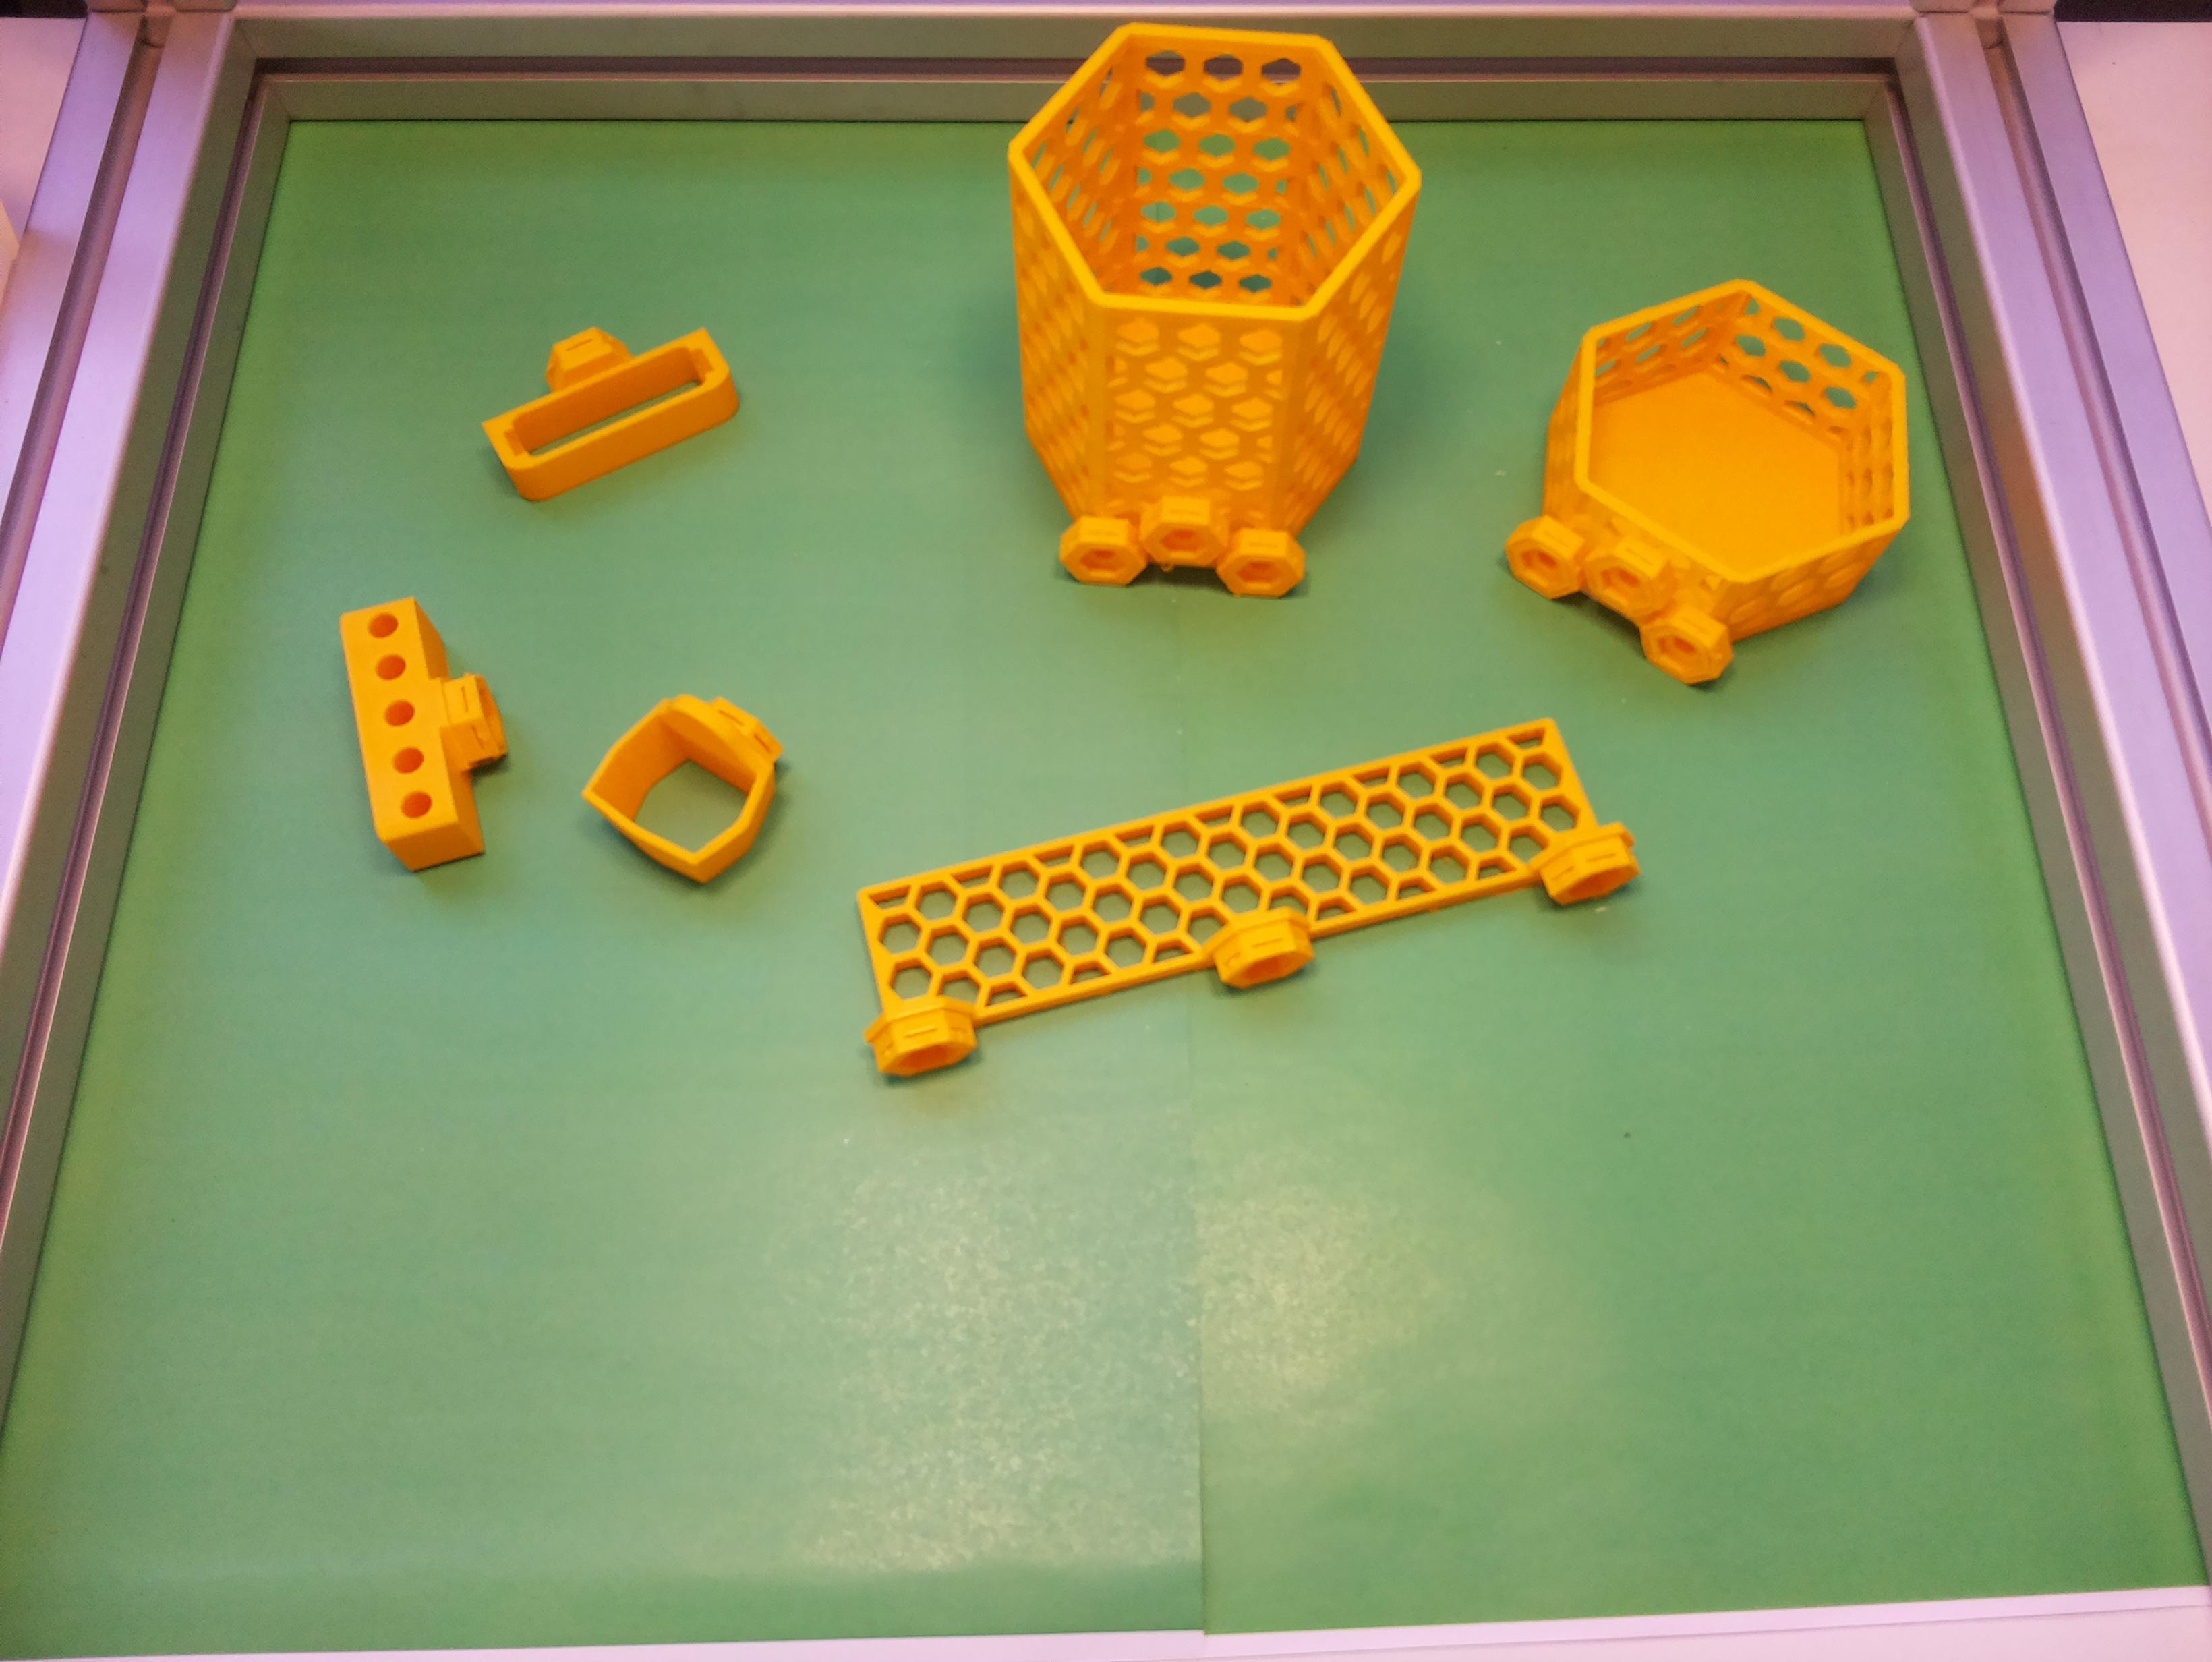bit_holder: (325, 585, 529, 878)
bottle_holder: (1461, 223, 1971, 737)
cup_holder: (979, 16, 1430, 604)
cutter_holder: (466, 285, 747, 510)
scissor_holder: (574, 662, 812, 901)
tool_holder: (829, 698, 1645, 1084)
